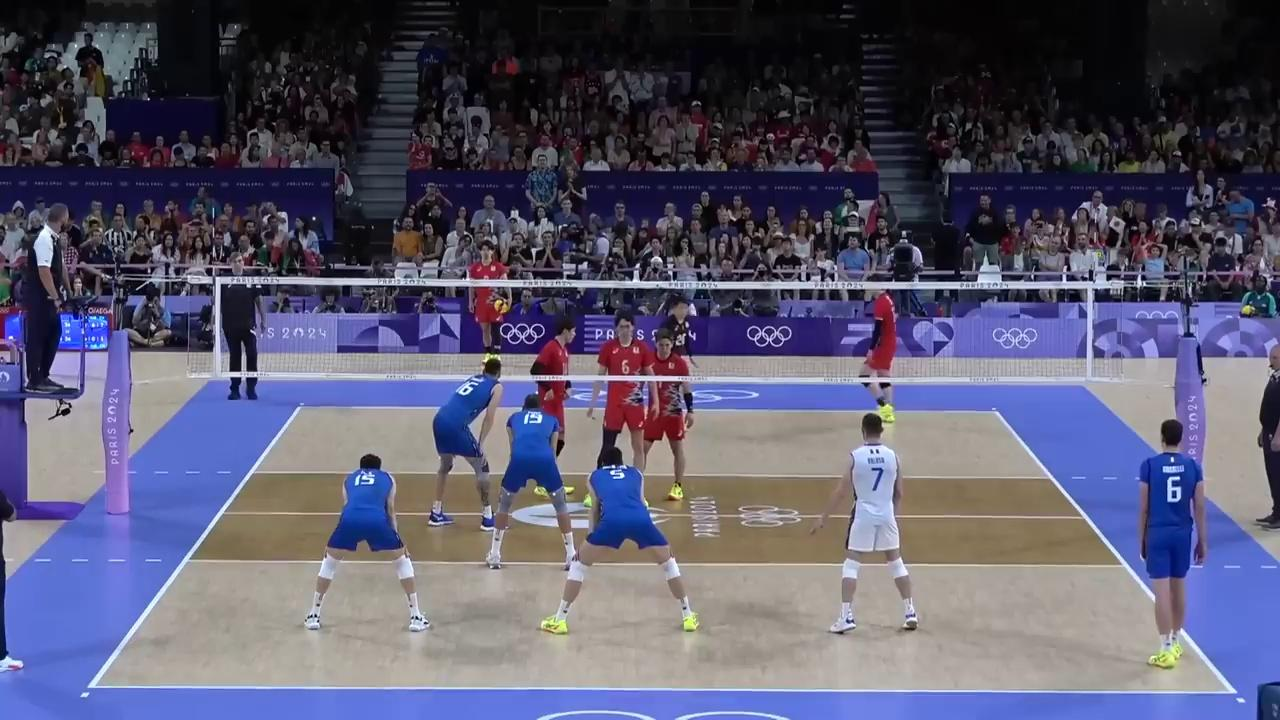ball: (494, 298, 509, 313)
